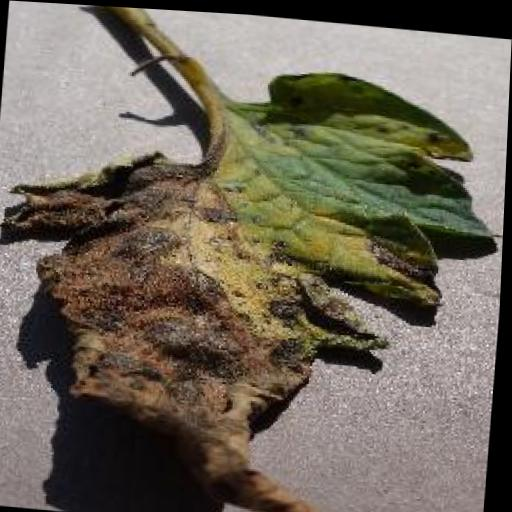Early Blight: (0, 43, 504, 512)
